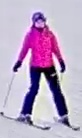skier: (0, 11, 80, 130)
